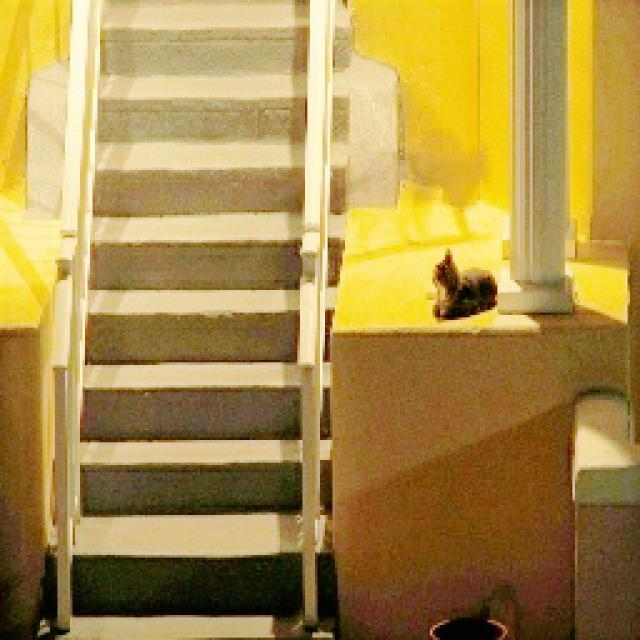cat: (414, 241, 502, 324)
